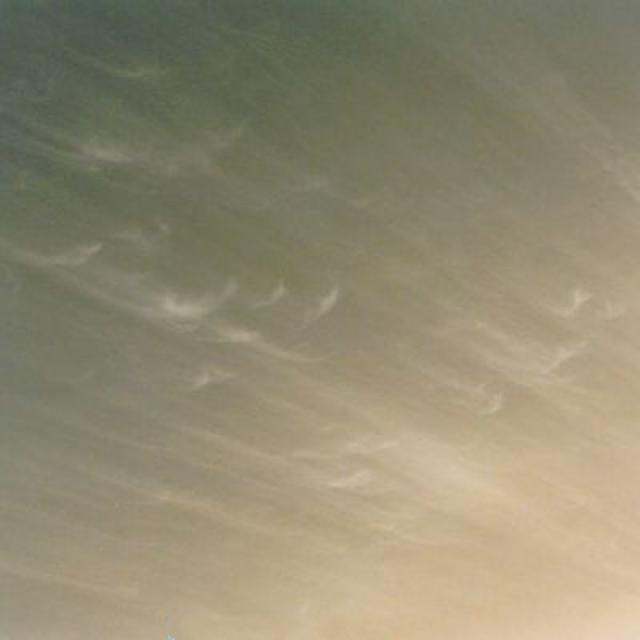Cs: (1, 12, 640, 601)
